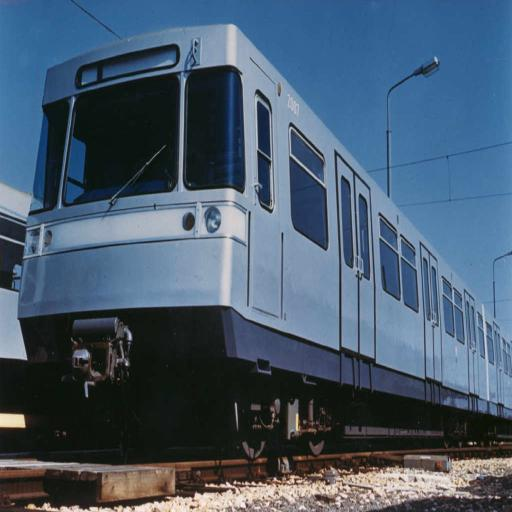Silberpfeil: (16, 20, 512, 446)
